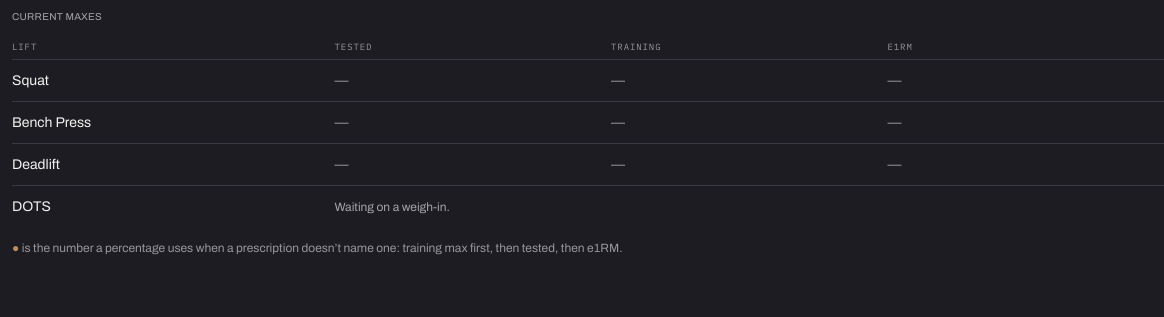
Test: setting a max inline › cancels on Escape without writing
Click the button named "Set tested for Squat": [342, 80] box top-left (330, 66), bottom-right (352, 95)
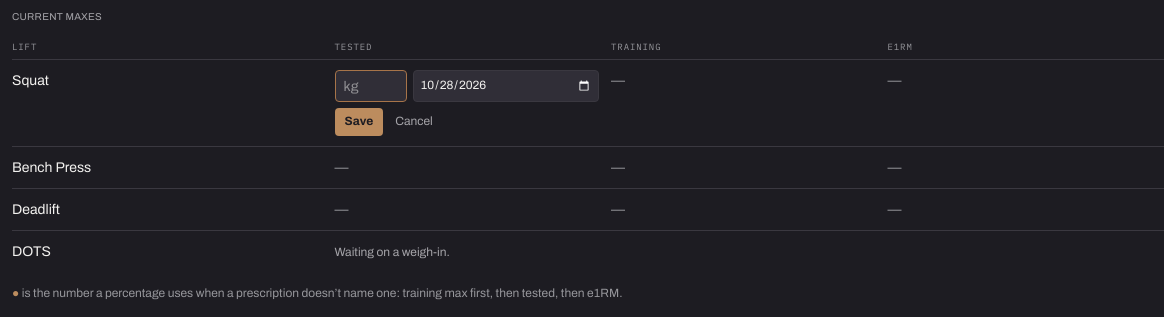
In the field named "tested for Squat, kg": [370, 86] box top-left (334, 70), bottom-right (406, 102), type "200"
Then press Escape
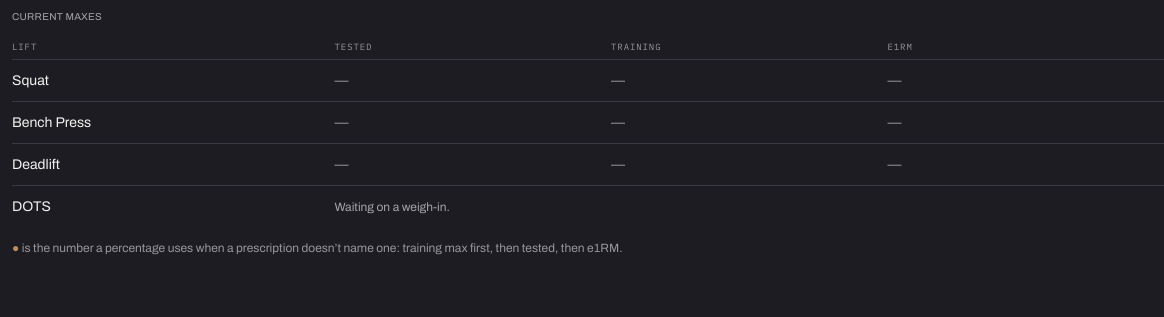
Check: the field labelled "tested for Squat, kg" is gone
